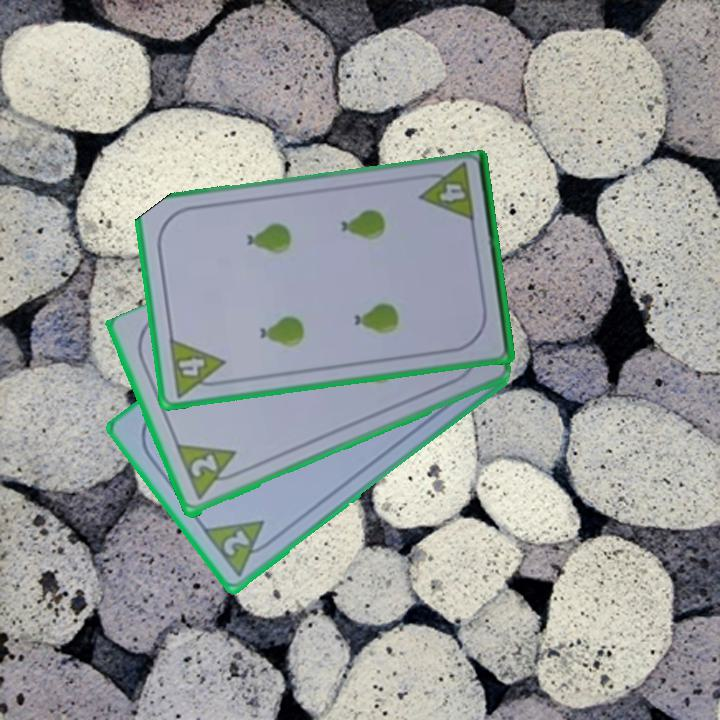2p: (199, 517, 279, 581), (186, 451, 220, 481)
4p: (165, 335, 230, 400), (414, 161, 477, 226)
